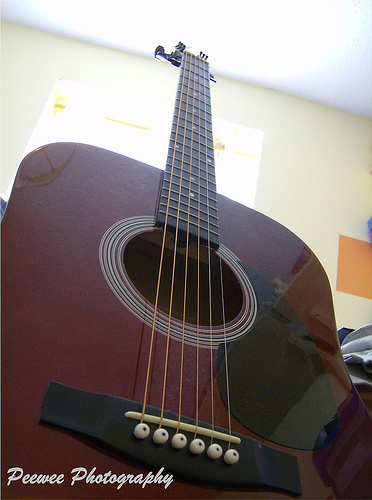guitar: (1, 39, 370, 499)
